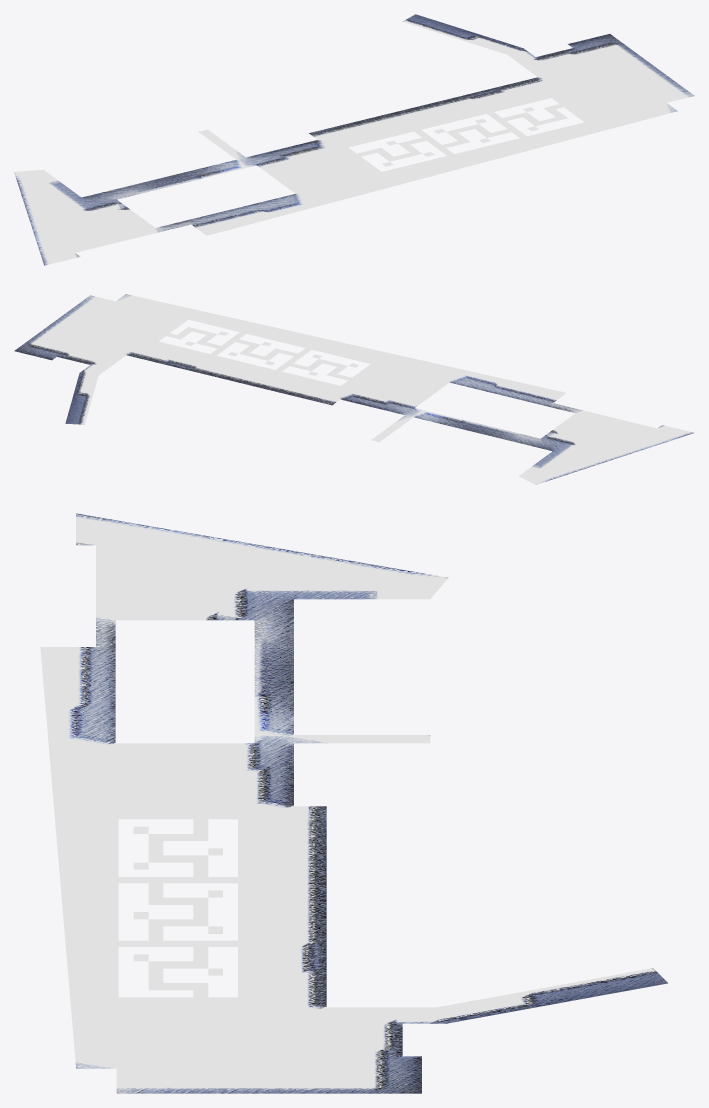
File: Asfalto cucinato FX.glb
3 renders of one model, top to bottom at view 1: azimuth 30°, elevation 25°; view 2: azimuth 150°, elevation 25°; view 3: azimuth 270°, elevation 25°, orthographic. The views are drawn at different scales.
Visible parts, largest first — view 1: Obj_000001_1; view 2: Obj_000001_1; view 3: Obj_000001_1.
Part boxes in pixels (x1,y1,x2,y2): Obj_000001_1: (14,14,694,265); Obj_000001_1: (14,294,694,484); Obj_000001_1: (40,513,667,1093).
Size of the model in its own units: 230 by 1.77e-05 by 105.
Materials: 1 (1 with a texture image).
